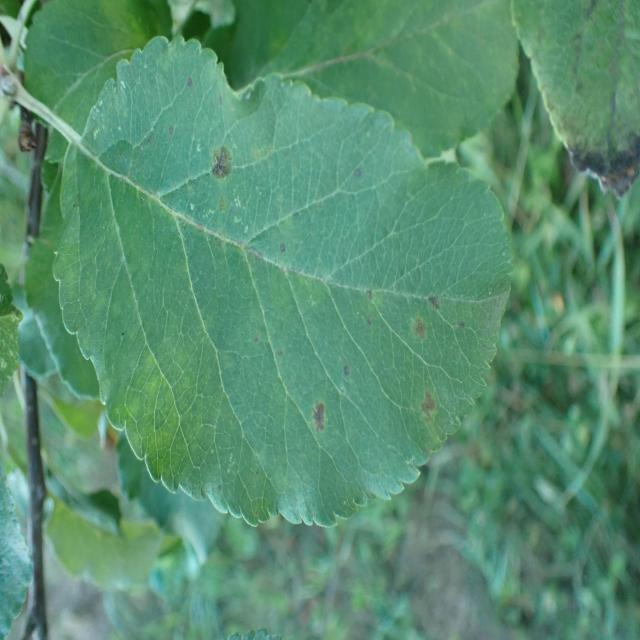scab: (101, 72, 474, 462)
